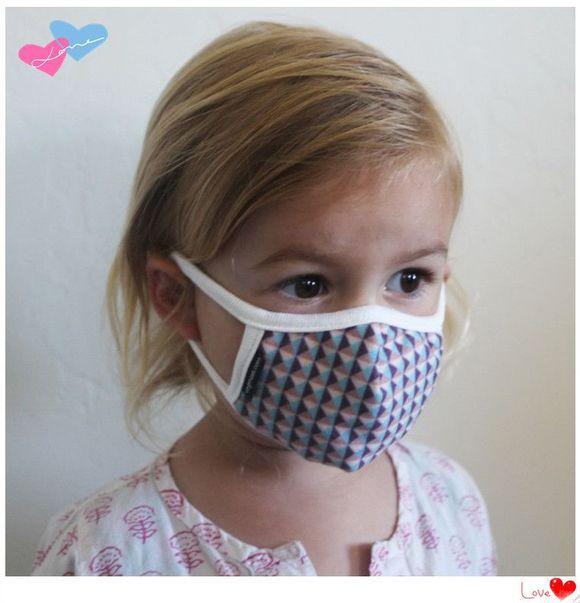OK: (194, 221, 462, 466)
